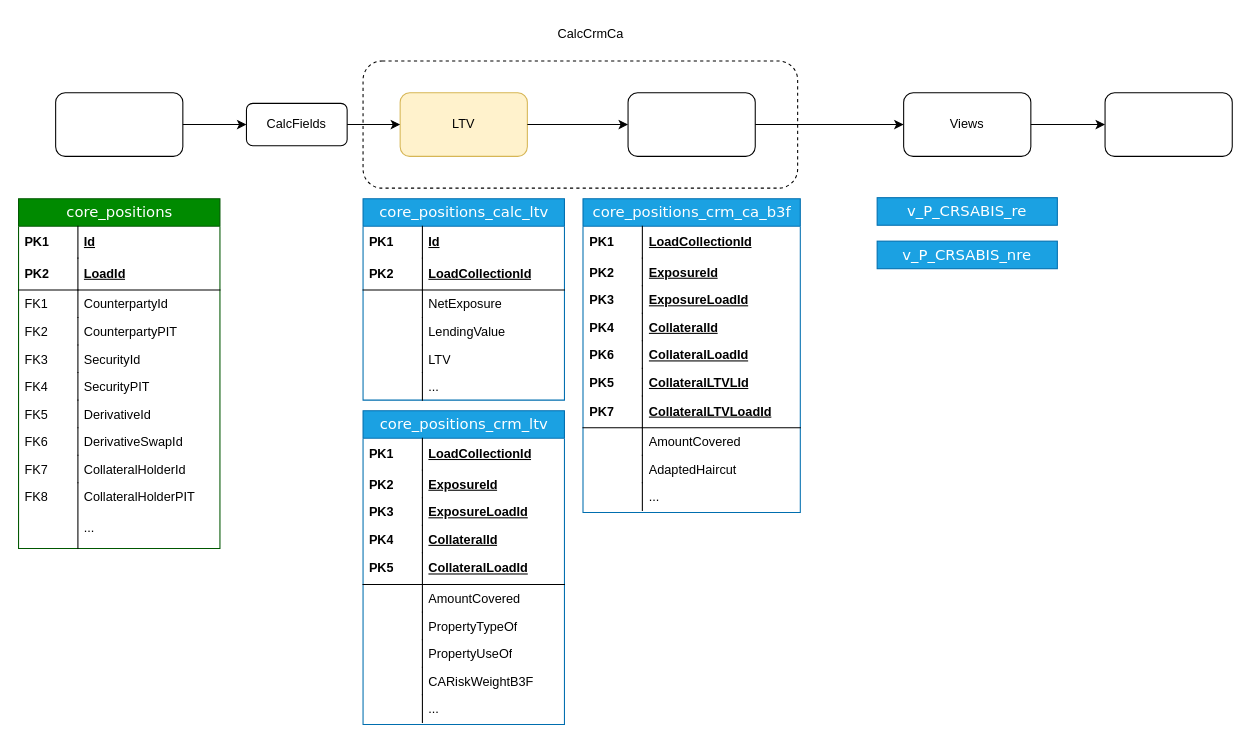
Image size: 1251x743. Some labels were removed from this diagram. Each missing label, with the centre of its shape:
CRM: point 691,124
Input Tables: point 119,124
Reports: point 1168,124
